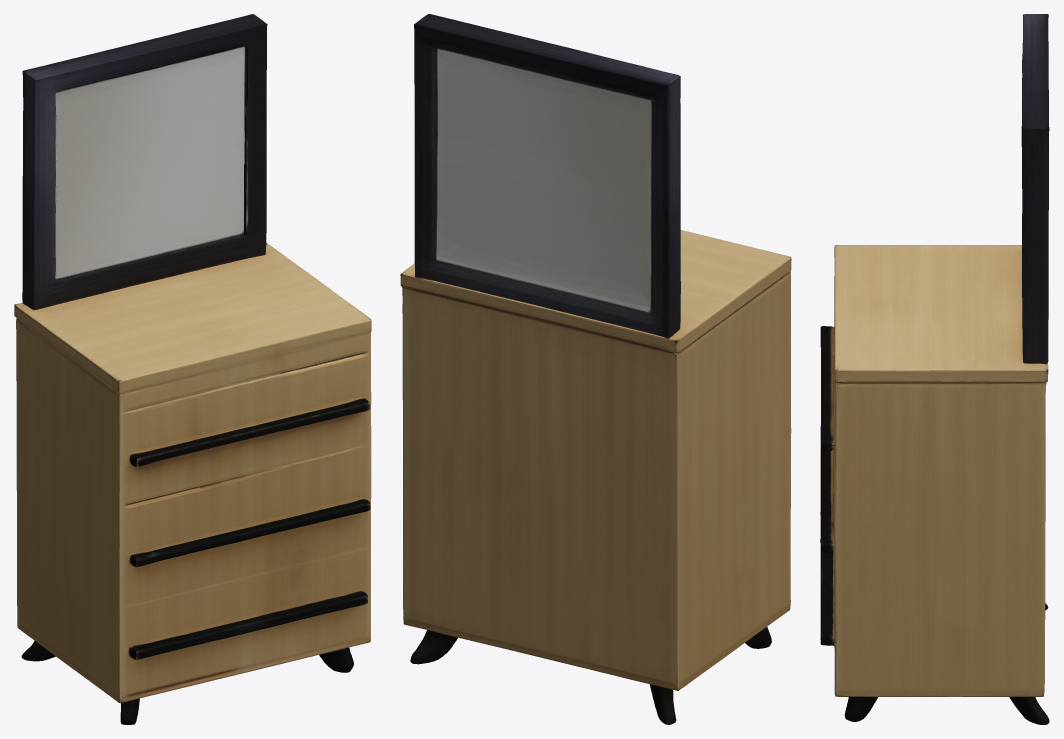
Rendered from 24198_texas_chest_of_drawer_mirror.glb.
3 renders of one model, left to right at view 1: azimuth 30°, elevation 25°; view 2: azimuth 150°, elevation 25°; view 3: azimuth 270°, elevation 25°, orthographic. The views are drawn at different scales.
Parts seen in each view (by area): view 1: world; view 2: world; view 3: world.
Part boxes in pixels (x1,y1,x2,y2): world: (14, 14, 371, 724); world: (400, 14, 791, 724); world: (820, 14, 1049, 724).
Bounding box in the file's own units: 0.4535 × 1 × 0.3494.
1 material, 1 textured.
